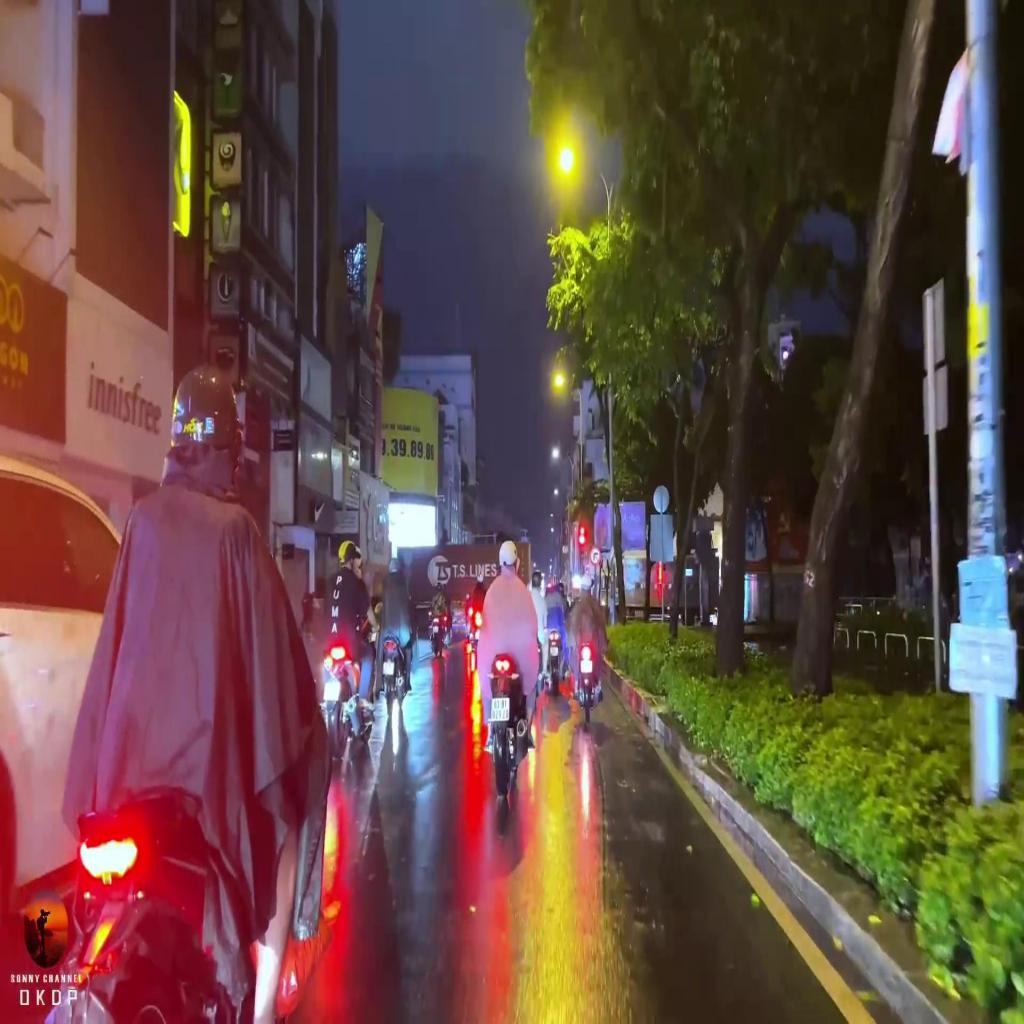cam_re_phai: (590, 545, 600, 567)
